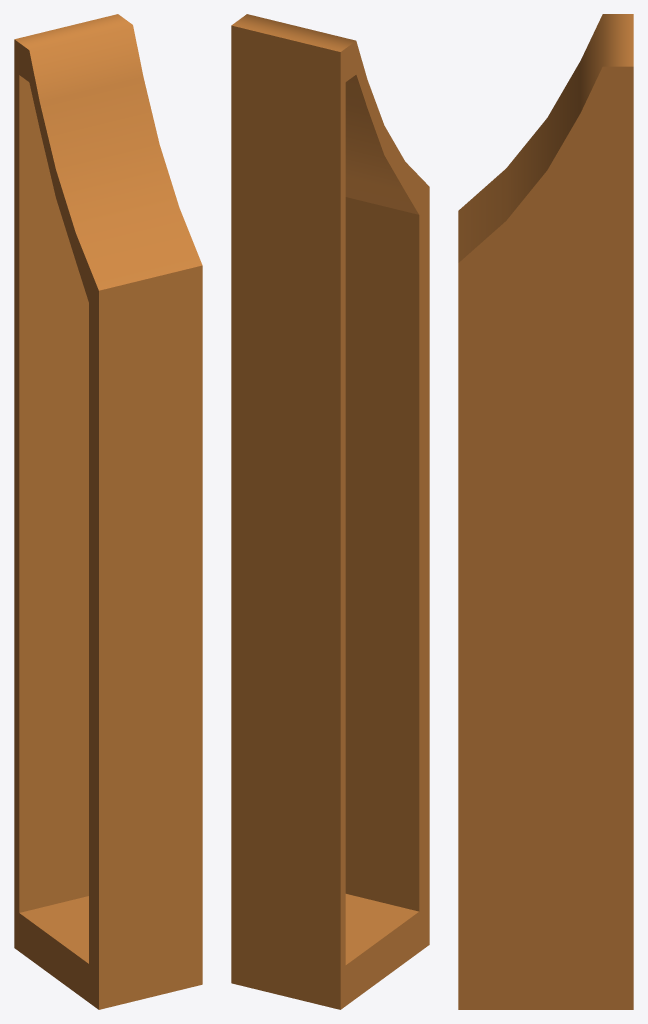
The model's file is Large Right.fbx.
3 views of the same model, side by side, from view 1: azimuth 30°, elevation 25°; view 2: azimuth 150°, elevation 25°; view 3: azimuth 270°, elevation 25° (orthographic). The views are drawn at different scales.
Parts seen in each view (by area): view 1: polySurface115; view 2: polySurface115; view 3: polySurface115.
Part boxes in pixels (x1,y1,x2,y2): polySurface115: (14, 14, 202, 1009); polySurface115: (231, 14, 429, 1009); polySurface115: (458, 14, 633, 1009).
Size of the model in its own units: 2.14 by 17.91 by 3.02.
Materials: 1 (1 with a texture image).
